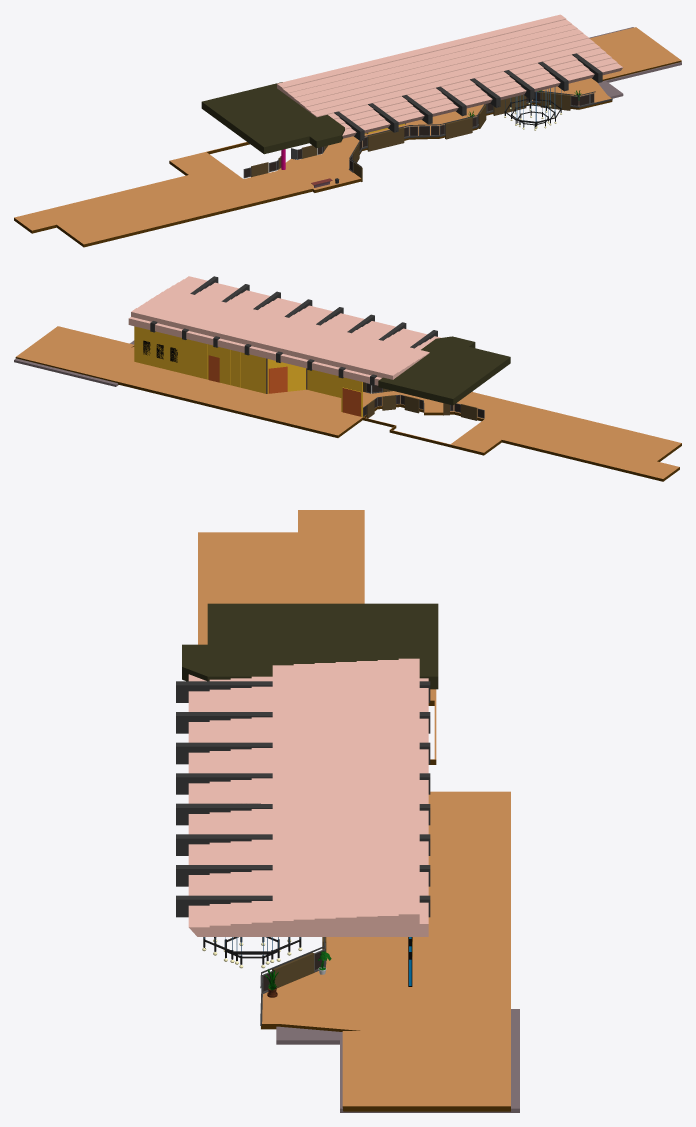
File: forum_upper.fbx
3 renders of one model, top to bottom at view 1: azimuth 30°, elevation 25°; view 2: azimuth 150°, elevation 25°; view 3: azimuth 270°, elevation 25°, orthographic. The views are drawn at different scales.
Parts seen in each view (by area): view 1: Ceiling.001, Balustrade.002, Ceiling.002, Balustrade.001, Ceiling.003, Chandelier, CeilingC.001; view 2: Balustrade.002, Ceiling.001, Ceiling.002, UpperWall.001, Ceiling.003, UpperWall.002, Balustrade.001, CeilingC.001, Door.A102, Door.006, Showcase.001; view 3: Balustrade.002, Ceiling.001, Ceiling.002, Ceiling.003, CeilingC.001, Balustrade.001, Chandelier.
Part boxes in pixels (x1,y1,x2,y2): Ceiling.001: (277,14,622,138); Balustrade.002: (14,27,681,247); Ceiling.002: (201,82,344,154); Balustrade.001: (243,90,612,181); Ceiling.003: (334,53,602,140); Chandelier: (504,87,561,130); CeilingC.001: (589,27,681,98); Balustrade.002: (15,326,681,481); Ceiling.001: (128,276,441,385); Ceiling.002: (378,336,510,405); UpperWall.001: (185,339,362,417); Ceiling.003: (150,276,437,385); UpperWall.002: (134,326,185,373); Balustrade.001: (363,382,484,420); CeilingC.001: (14,340,134,386); Door.A102: (268,366,287,393); Door.006: (342,388,360,416); Showcase.001: (143,340,177,362); Balustrade.002: (198,510,510,1111); Ceiling.001: (188,658,428,936); Ceiling.002: (182,603,438,689); Ceiling.003: (176,681,430,917); CeilingC.001: (276,1009,519,1112); Balustrade.001: (260,937,326,1025); Chandelier: (202,937,302,968).
Size of the model in its own units: 54.51 by 4.69 by 13.28.
